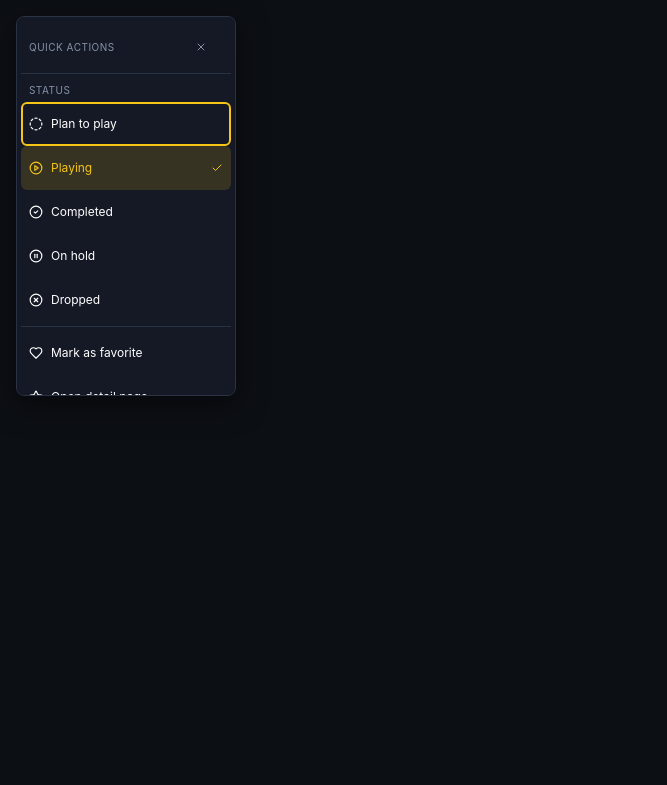
Scenario: CardContextMenu › surfaces status mutation failures without closing
The width and height of the screenshot is (667, 785).
Click the menu item "Completed": [126, 212] box [21,190,231,234]
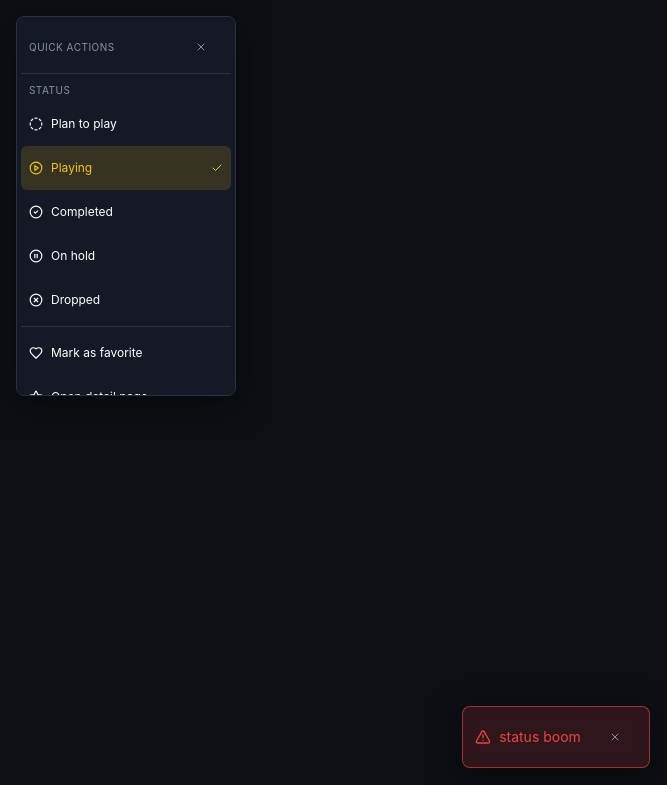
Expected: the text "status boom" is shown, [499,727,581,747]
